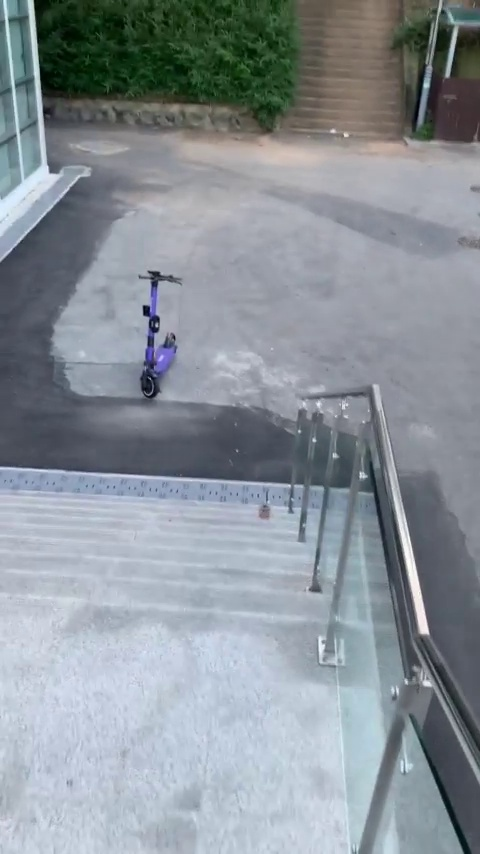beam: (120, 256, 200, 407)
